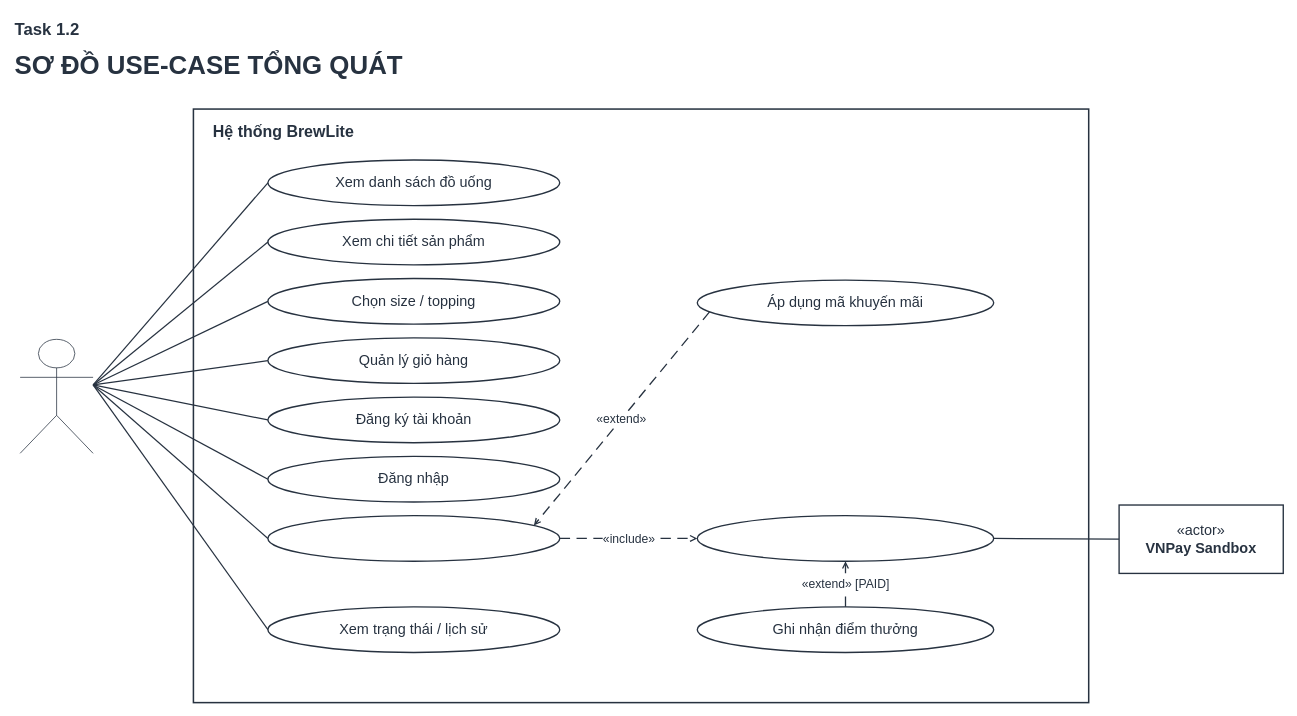
The diagram is 1297 pixels wide and 716 high, and some of its shapes have lost their labels. Here are the shapes that lost their labels. From the top down, the centre of each, then its label:
(x=56, y=396): Khách hàng
(x=413, y=538): Đặt và thanh toán đơn
(x=845, y=538): Thanh toán qua VNPay
